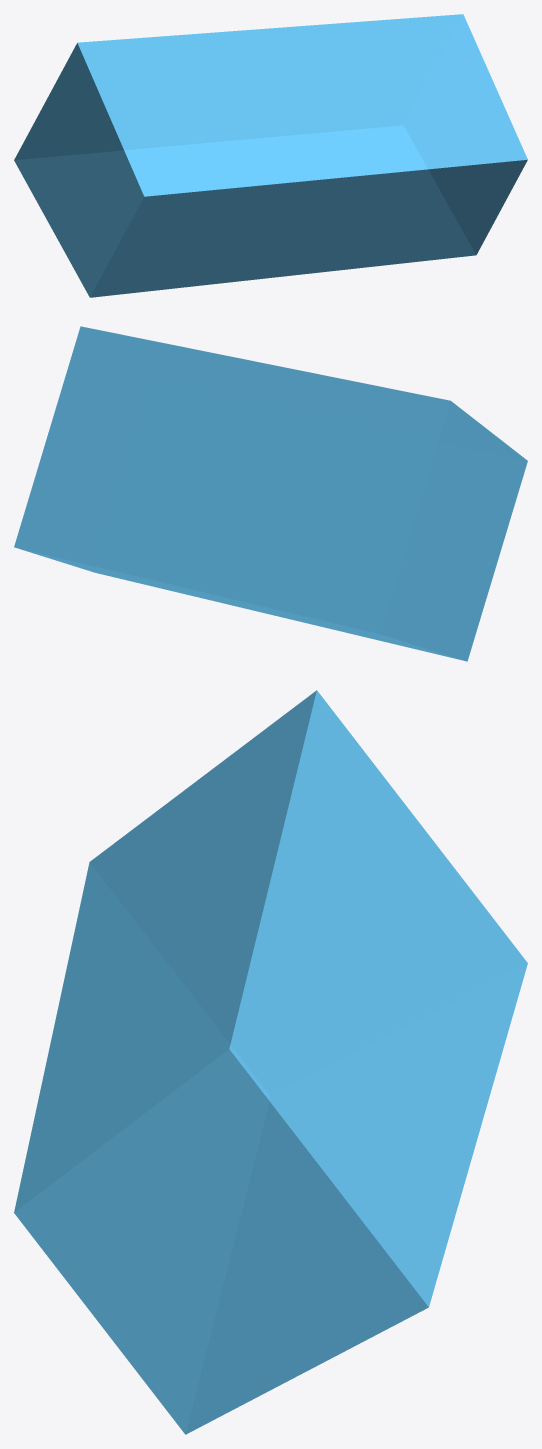
File: Event_420094457_HErechit_79.fbx
3 views of the same model, one above another, from view 1: azimuth 30°, elevation 25°; view 2: azimuth 150°, elevation 25°; view 3: azimuth 270°, elevation 25° (orthographic). The views are drawn at different scales.
Visible parts, largest first — view 1: Model; view 2: Model; view 3: Model.
Part boxes in pixels (x1,y1,x2,y2): Model: (14, 14, 527, 297); Model: (14, 326, 527, 661); Model: (14, 690, 527, 1434).
Bounding box in the file's own units: 0.6368 × 0.4578 × 0.4714.
